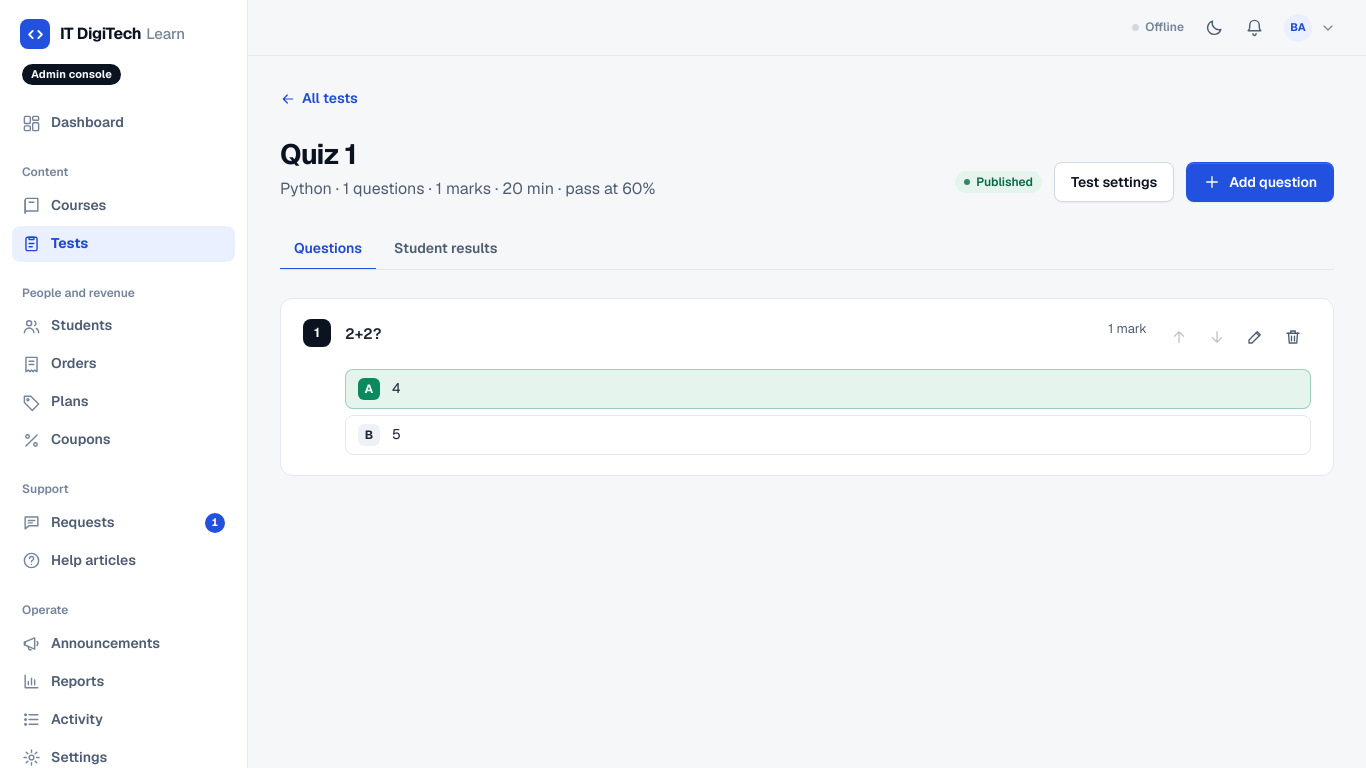
admin console › renders the question editor
The image size is (1366, 768).
Expected: the text "2+2?" is shown, 345,324 -> 382,343
Click the button "Add question" at (1260, 182), box 1186,162 -> 1334,202
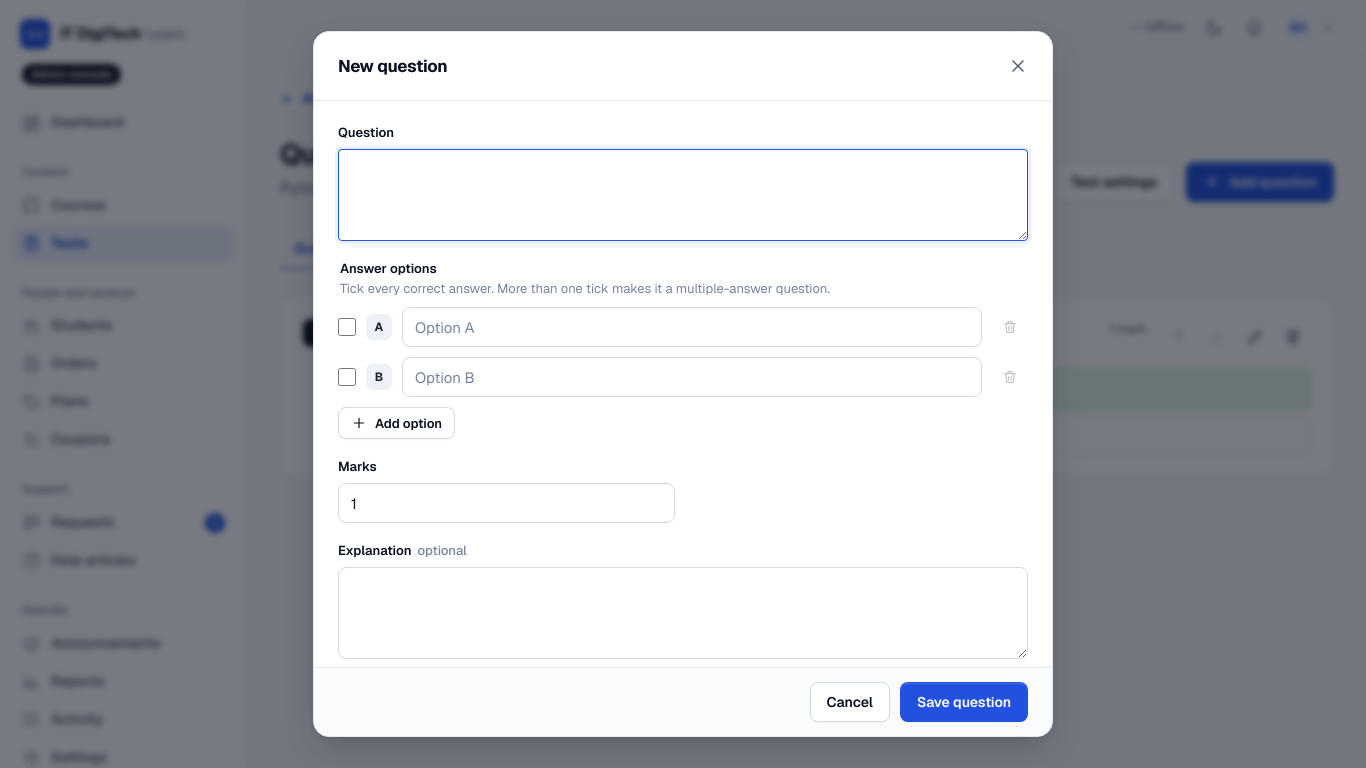
Expected: the checkbox named "Option A is correct" is shown, 338,318 -> 356,336
